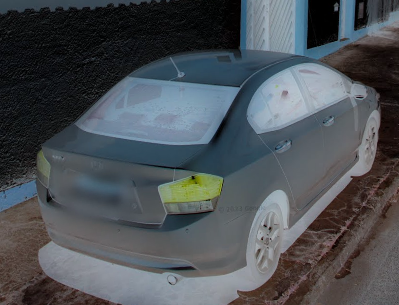car: (35, 50, 381, 290)
